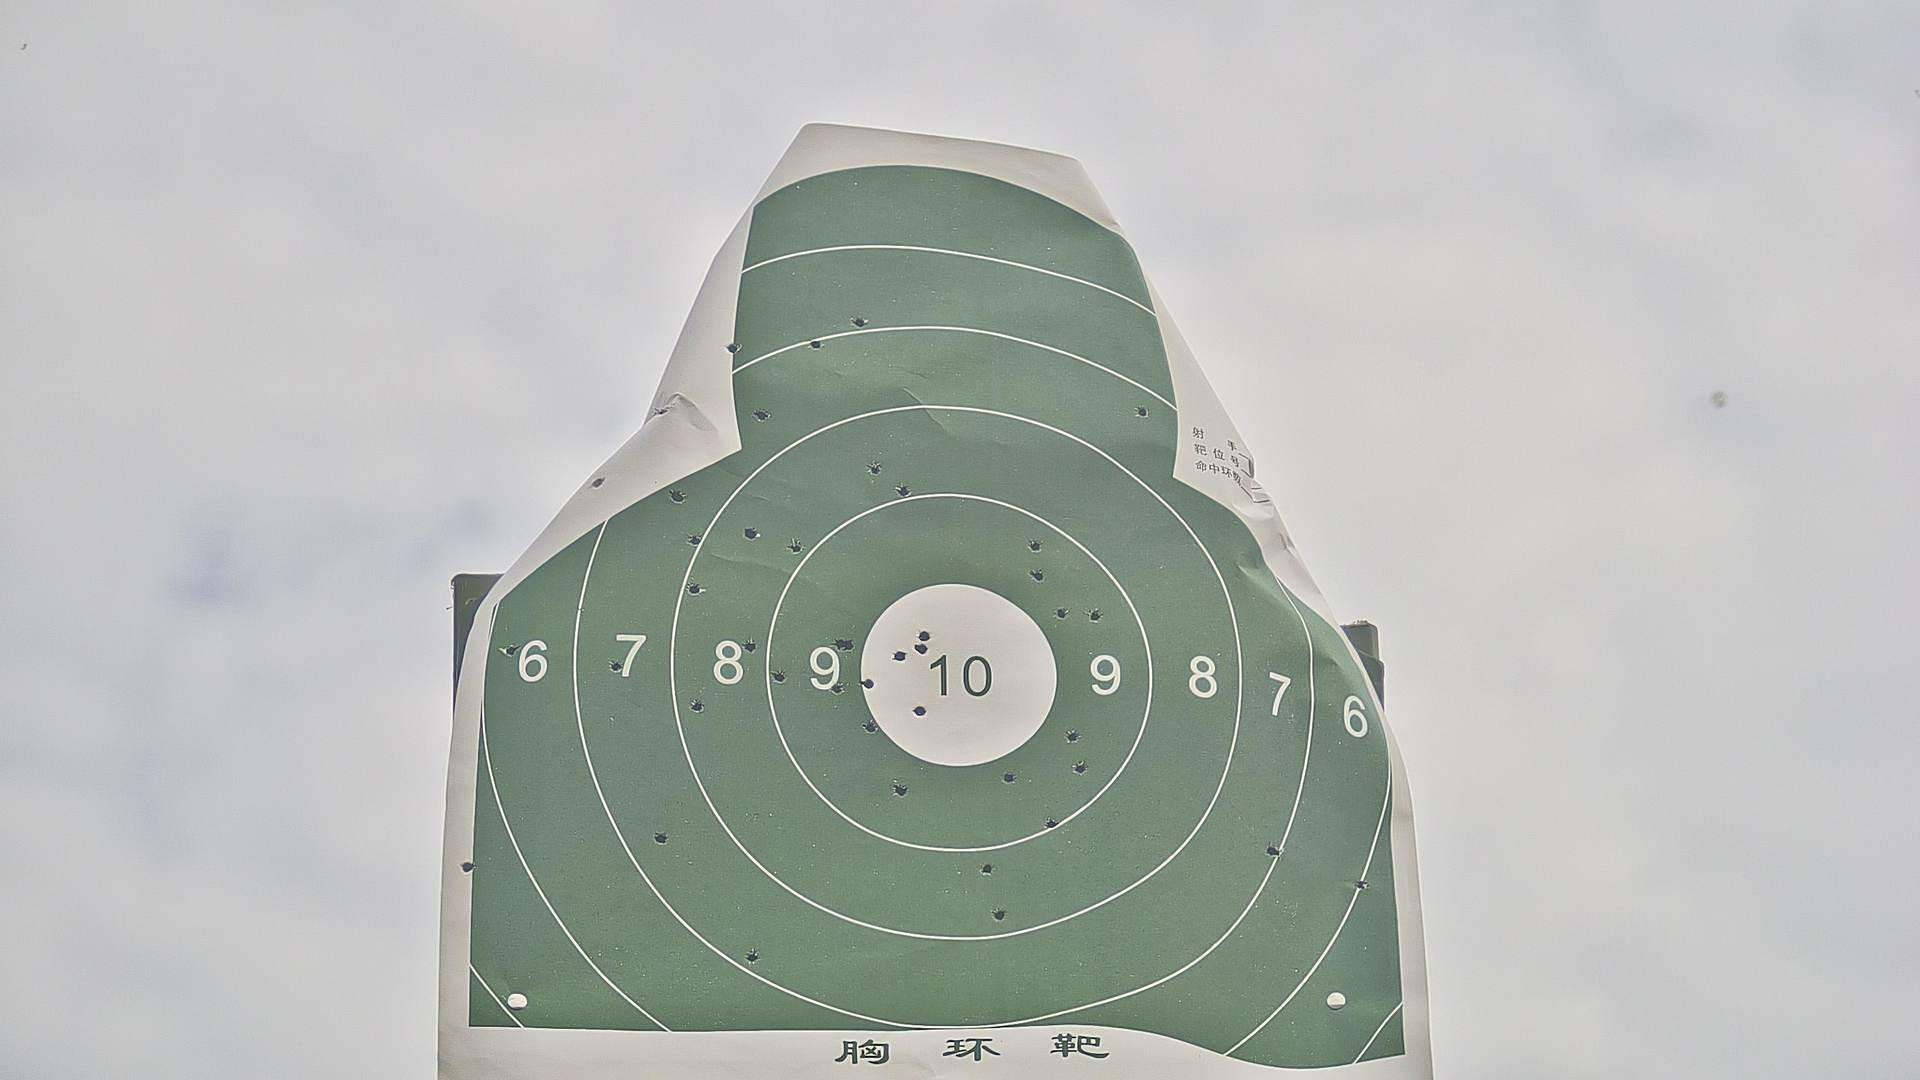hole: (459, 858, 477, 876), (588, 477, 607, 491), (992, 909, 1007, 922), (754, 407, 767, 422), (744, 526, 757, 539), (654, 831, 667, 844), (746, 951, 760, 964), (1267, 844, 1280, 857), (895, 487, 910, 498), (841, 637, 853, 651), (673, 491, 686, 502), (981, 862, 993, 876), (687, 583, 702, 593), (914, 644, 928, 654), (1075, 762, 1087, 774), (1065, 731, 1077, 742), (810, 339, 823, 349), (728, 342, 738, 353), (611, 661, 621, 673), (745, 640, 756, 651), (831, 684, 843, 695), (862, 678, 874, 688), (1055, 607, 1065, 618), (1030, 541, 1042, 551), (1356, 880, 1367, 890), (688, 535, 702, 545), (692, 700, 702, 713), (864, 721, 877, 731), (891, 650, 905, 659), (833, 640, 844, 650), (919, 629, 930, 640), (1047, 818, 1058, 828), (774, 671, 786, 680), (895, 785, 905, 796), (915, 705, 924, 717), (1004, 771, 1015, 781), (1034, 568, 1042, 582), (791, 542, 800, 553), (505, 646, 516, 655), (1091, 611, 1101, 620), (855, 318, 864, 327), (1139, 406, 1146, 417), (872, 465, 880, 473)
kernel: (949, 674, 957, 679)
target: (462, 165, 1408, 1068)
ten: (861, 580, 1059, 769)
